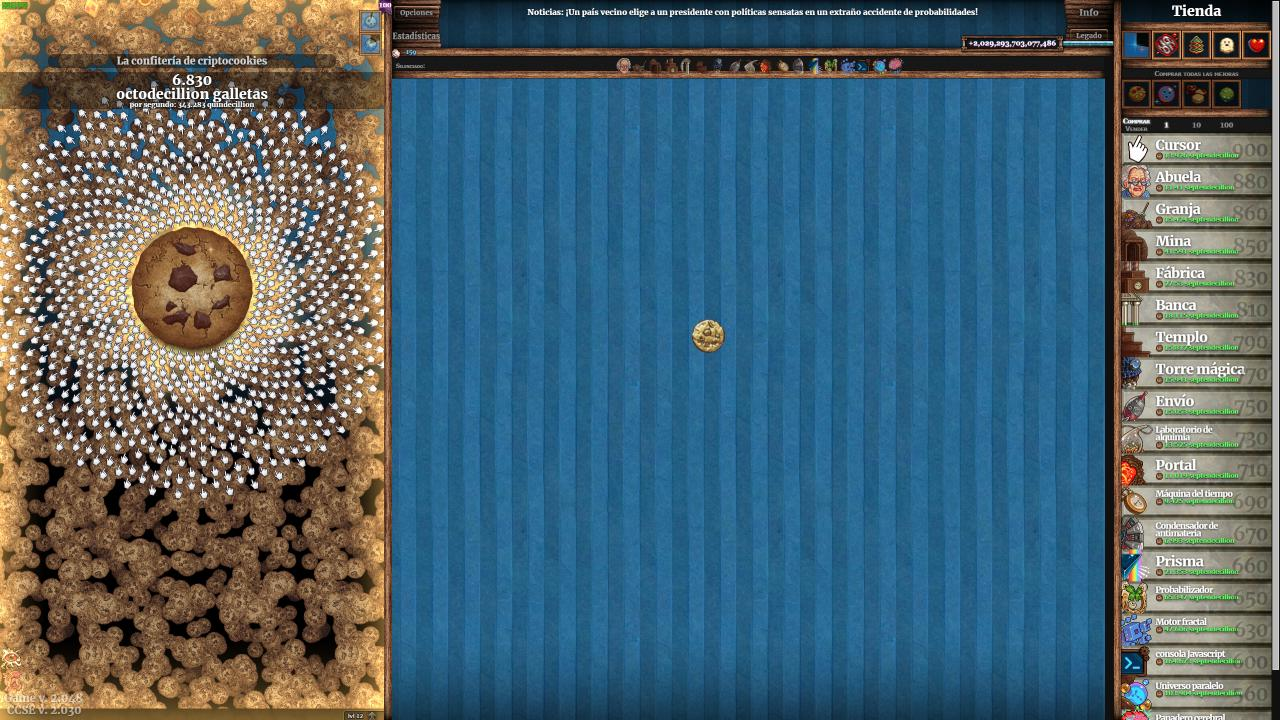GoldenCookie: (690, 317, 728, 355)
